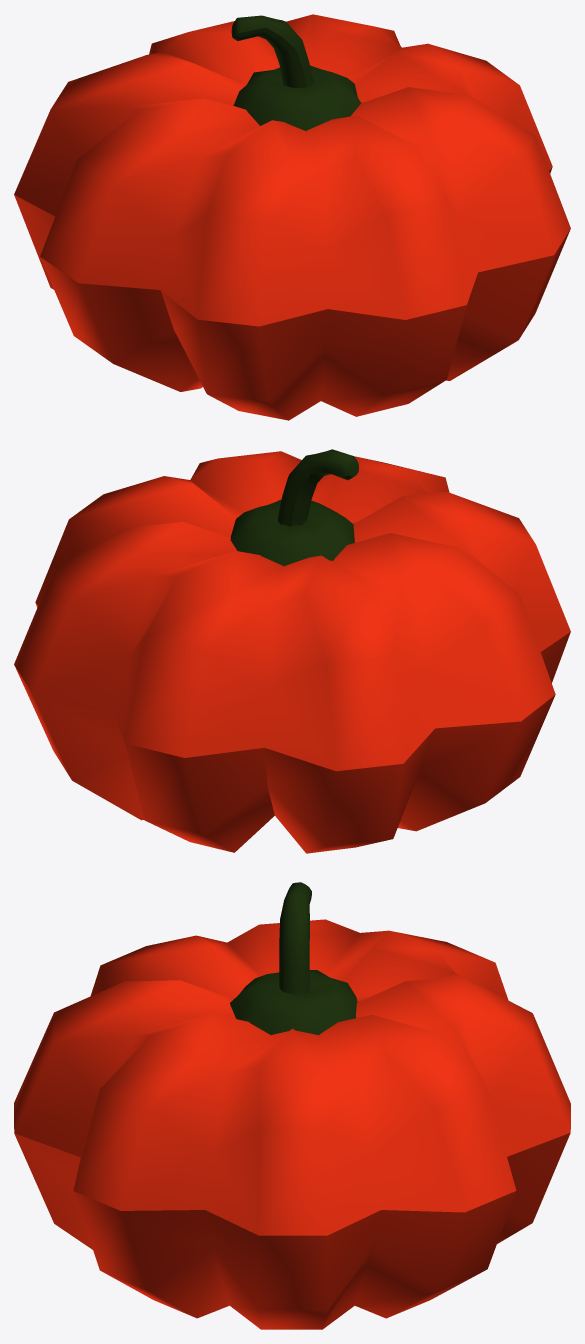
The model's file is Pumpkin.fbx.
The picture shows the model from 3 angles, top to bottom: view 1: azimuth 30°, elevation 25°; view 2: azimuth 150°, elevation 25°; view 3: azimuth 270°, elevation 25°; orthographic projection.
Parts seen in each view (by area): view 1: Pumpkin; view 2: Pumpkin; view 3: Pumpkin.
Boxes of the visible parts, left/top/right/bottom form: Pumpkin: left=14, top=14, right=570, bottom=420; Pumpkin: left=14, top=449, right=570, bottom=853; Pumpkin: left=14, top=882, right=570, bottom=1329.
Size of the model in its own units: 41.29 by 29.5 by 41.06.
